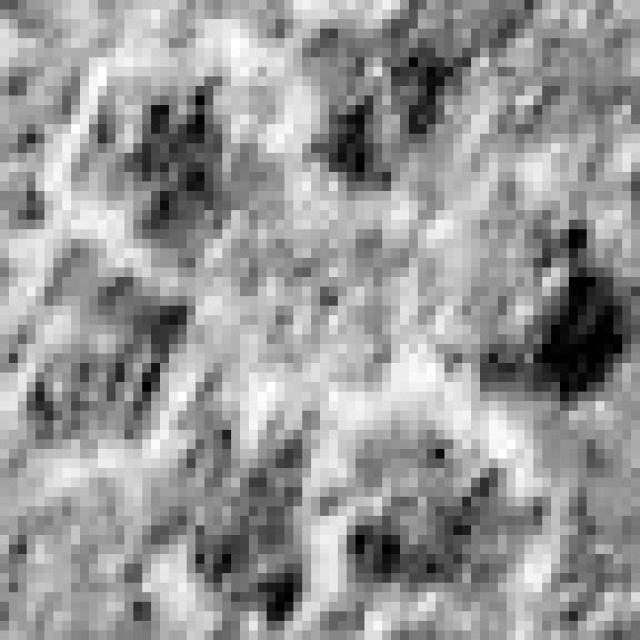inner: (216, 196, 433, 392)
lobe: (146, 367, 322, 634), (440, 203, 635, 408), (324, 428, 546, 602), (77, 71, 265, 267), (10, 247, 193, 446), (293, 10, 467, 198)
outer: (0, 0, 640, 640)
